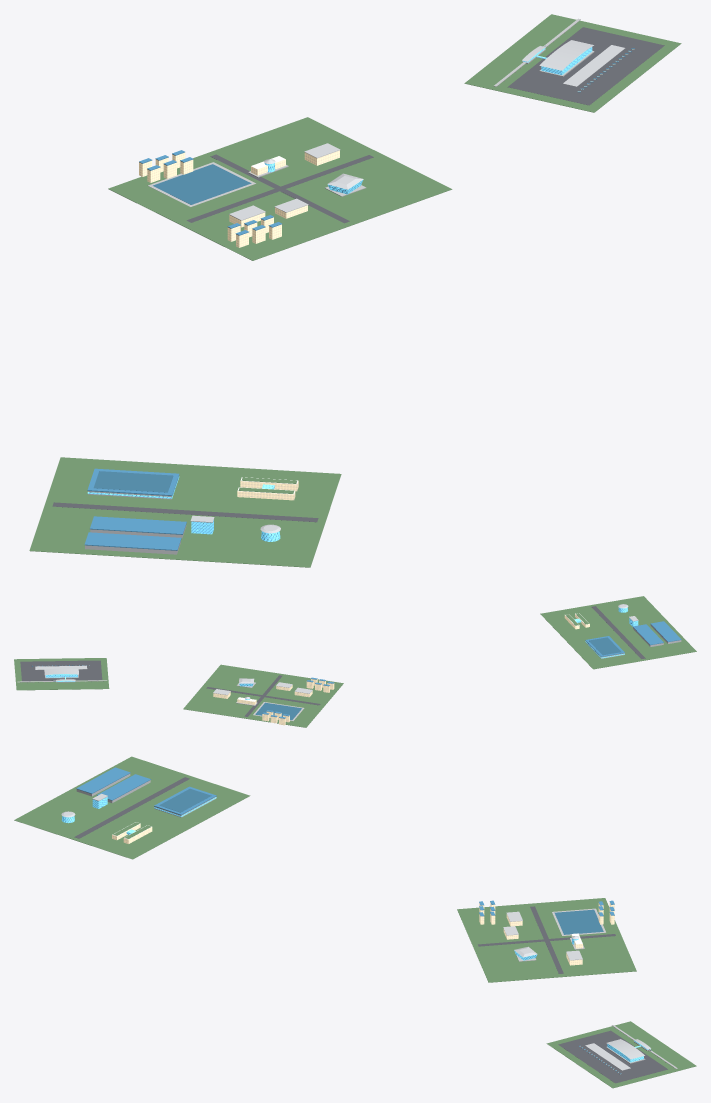
The model's file is shtp_vnu_thuduc.glb.
The picture shows the model from 3 angles, top to bottom: view 1: azimuth 30°, elevation 25°; view 2: azimuth 150°, elevation 25°; view 3: azimuth 270°, elevation 25°; orthographic projection. The views are drawn at different scales.
Visible parts, largest first — view 1: VNU_SHTP_GREEN_CAMPUS_BASE, XA_LO_HA_NOI_BUS_APRONS, STATION_CANOPIES_FAB_ROOFS, SEHC_INTEL_METRO_ACCENTS, VNU_BUILDINGS_DORMS_EMISSIVE, HO_DA_LAKE_SOLAR_PANELS, SHTP_RD_MIENDONG_GLASS_EMISSIVE, METRO_LINE1_VIADUCT_STRUCTURES; view 2: VNU_SHTP_GREEN_CAMPUS_BASE, XA_LO_HA_NOI_BUS_APRONS, STATION_CANOPIES_FAB_ROOFS, SEHC_INTEL_METRO_ACCENTS, VNU_BUILDINGS_DORMS_EMISSIVE, HO_DA_LAKE_SOLAR_PANELS, METRO_LINE1_VIADUCT_STRUCTURES, SHTP_RD_MIENDONG_GLASS_EMISSIVE; view 3: VNU_SHTP_GREEN_CAMPUS_BASE, XA_LO_HA_NOI_BUS_APRONS, STATION_CANOPIES_FAB_ROOFS, SEHC_INTEL_METRO_ACCENTS, HO_DA_LAKE_SOLAR_PANELS, VNU_BUILDINGS_DORMS_EMISSIVE, SHTP_RD_MIENDONG_GLASS_EMISSIVE, METRO_LINE1_VIADUCT_STRUCTURES.
Boxes of the visible parts, left/top/right/bottom form: VNU_SHTP_GREEN_CAMPUS_BASE: left=29, top=14, right=681, bottom=567; XA_LO_HA_NOI_BUS_APRONS: left=52, top=27, right=664, bottom=522; STATION_CANOPIES_FAB_ROOFS: left=85, top=40, right=625, bottom=554; SEHC_INTEL_METRO_ACCENTS: left=84, top=48, right=634, bottom=550; VNU_BUILDINGS_DORMS_EMISSIVE: left=139, top=49, right=634, bottom=500; HO_DA_LAKE_SOLAR_PANELS: left=93, top=164, right=251, bottom=492; SHTP_RD_MIENDONG_GLASS_EMISSIVE: left=87, top=47, right=592, bottom=541; METRO_LINE1_VIADUCT_STRUCTURES: left=148, top=18, right=594, bottom=206; VNU_SHTP_GREEN_CAMPUS_BASE: left=14, top=596, right=696, bottom=727; XA_LO_HA_NOI_BUS_APRONS: left=20, top=606, right=645, bottom=716; STATION_CANOPIES_FAB_ROOFS: left=35, top=604, right=681, bottom=699; SEHC_INTEL_METRO_ACCENTS: left=32, top=621, right=681, bottom=718; VNU_BUILDINGS_DORMS_EMISSIVE: left=79, top=613, right=589, bottom=725; HO_DA_LAKE_SOLAR_PANELS: left=255, top=637, right=620, bottom=720; METRO_LINE1_VIADUCT_STRUCTURES: left=17, top=674, right=304, bottom=721; SHTP_RD_MIENDONG_GLASS_EMISSIVE: left=45, top=607, right=638, bottom=699; VNU_SHTP_GREEN_CAMPUS_BASE: left=14, top=756, right=696, bottom=1088; XA_LO_HA_NOI_BUS_APRONS: left=74, top=777, right=667, bottom=1083; STATION_CANOPIES_FAB_ROOFS: left=61, top=773, right=651, bottom=1070; SEHC_INTEL_METRO_ACCENTS: left=76, top=767, right=651, bottom=1074; HO_DA_LAKE_SOLAR_PANELS: left=159, top=788, right=603, bottom=934; VNU_BUILDINGS_DORMS_EMISSIVE: left=112, top=822, right=620, bottom=1074; SHTP_RD_MIENDONG_GLASS_EMISSIVE: left=62, top=797, right=650, bottom=1062; METRO_LINE1_VIADUCT_STRUCTURES: left=516, top=908, right=677, bottom=1068.
Size of the model in its own units: 4271 by 57.1 by 3715.
